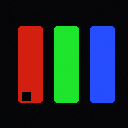1 square: (22, 92, 30, 100)
